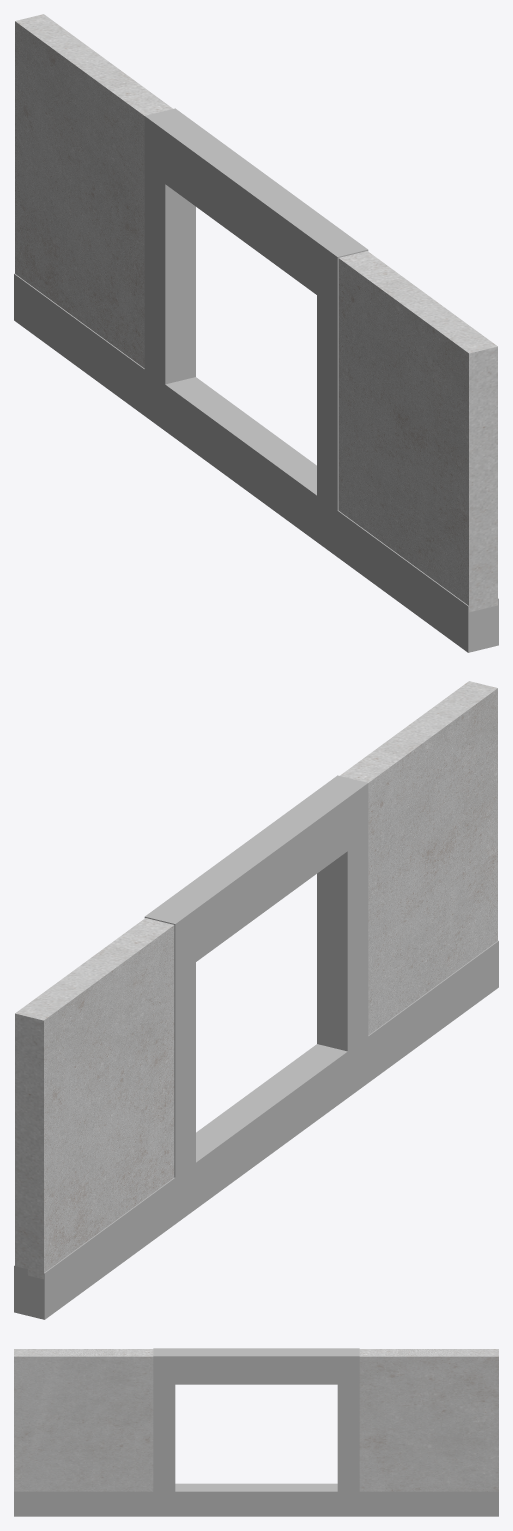
The model's file is SM_White_Red_Wall01A.fbx.
3 views of the same model, one above another, from view 1: azimuth 30°, elevation 25°; view 2: azimuth 150°, elevation 25°; view 3: azimuth 270°, elevation 25° (orthographic). The views are drawn at different scales.
Visible parts, largest first — view 1: SM_White_Red_Wall01A; view 2: SM_White_Red_Wall01A; view 3: SM_White_Red_Wall01A.
Boxes of the visible parts, x1,y1,x2,y2 form: SM_White_Red_Wall01A: (14, 14, 498, 652); SM_White_Red_Wall01A: (14, 681, 498, 1319); SM_White_Red_Wall01A: (14, 1348, 498, 1516).
Size of the model in its own units: 8.99 by 230 by 83.85.
